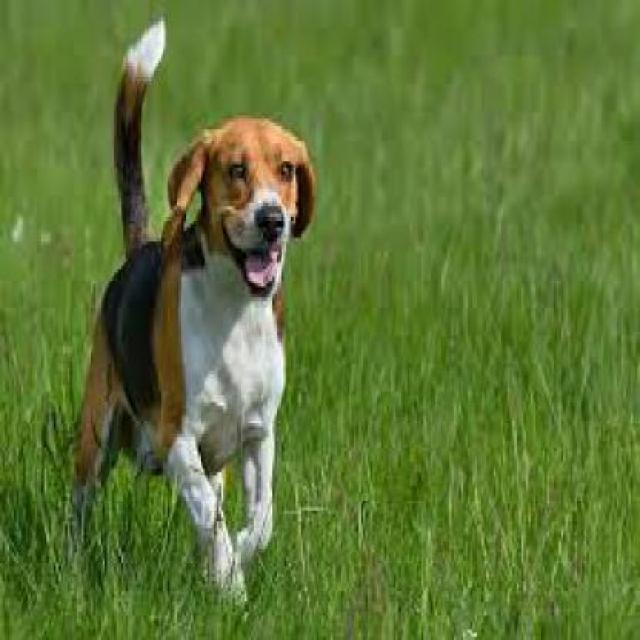Dog: (69, 12, 317, 618)
